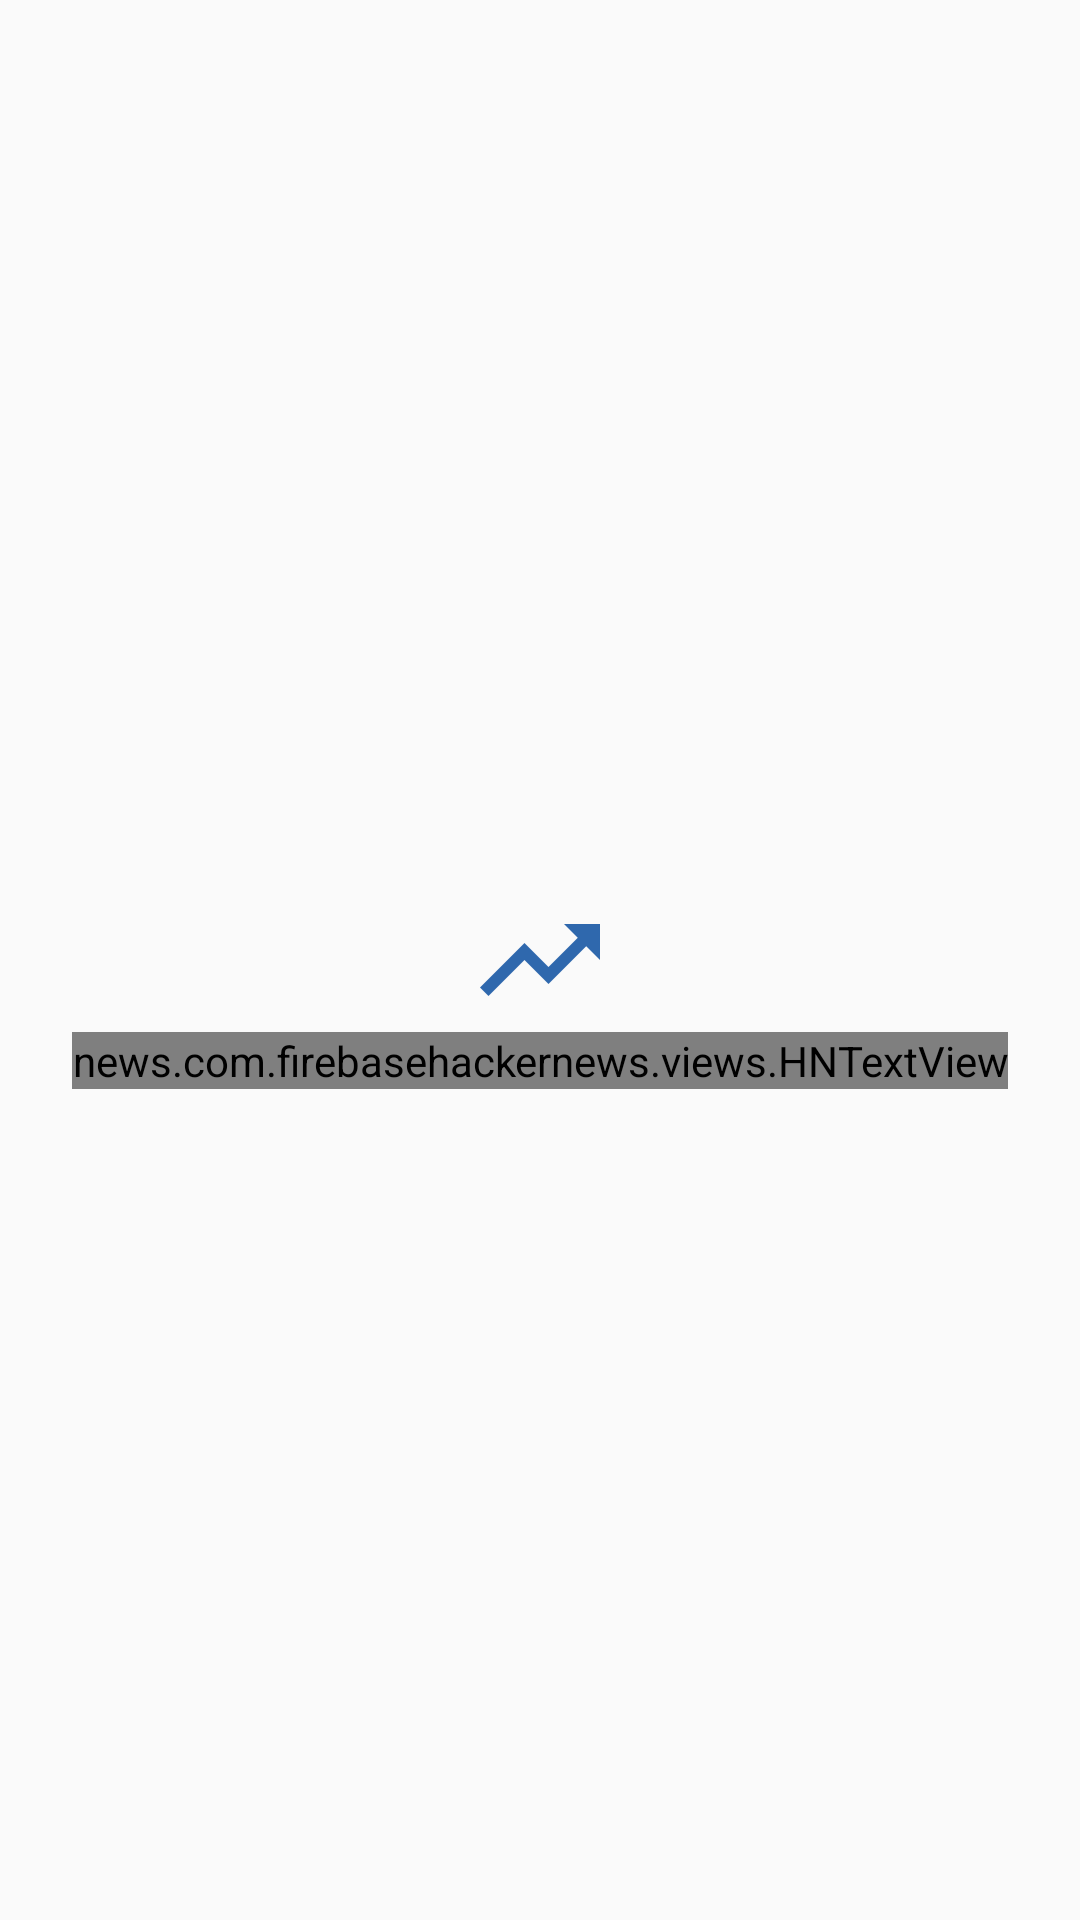

Point at icon controls on the screen. Image size 1080x1920, points as (x,y).
trending up: (540,960)
